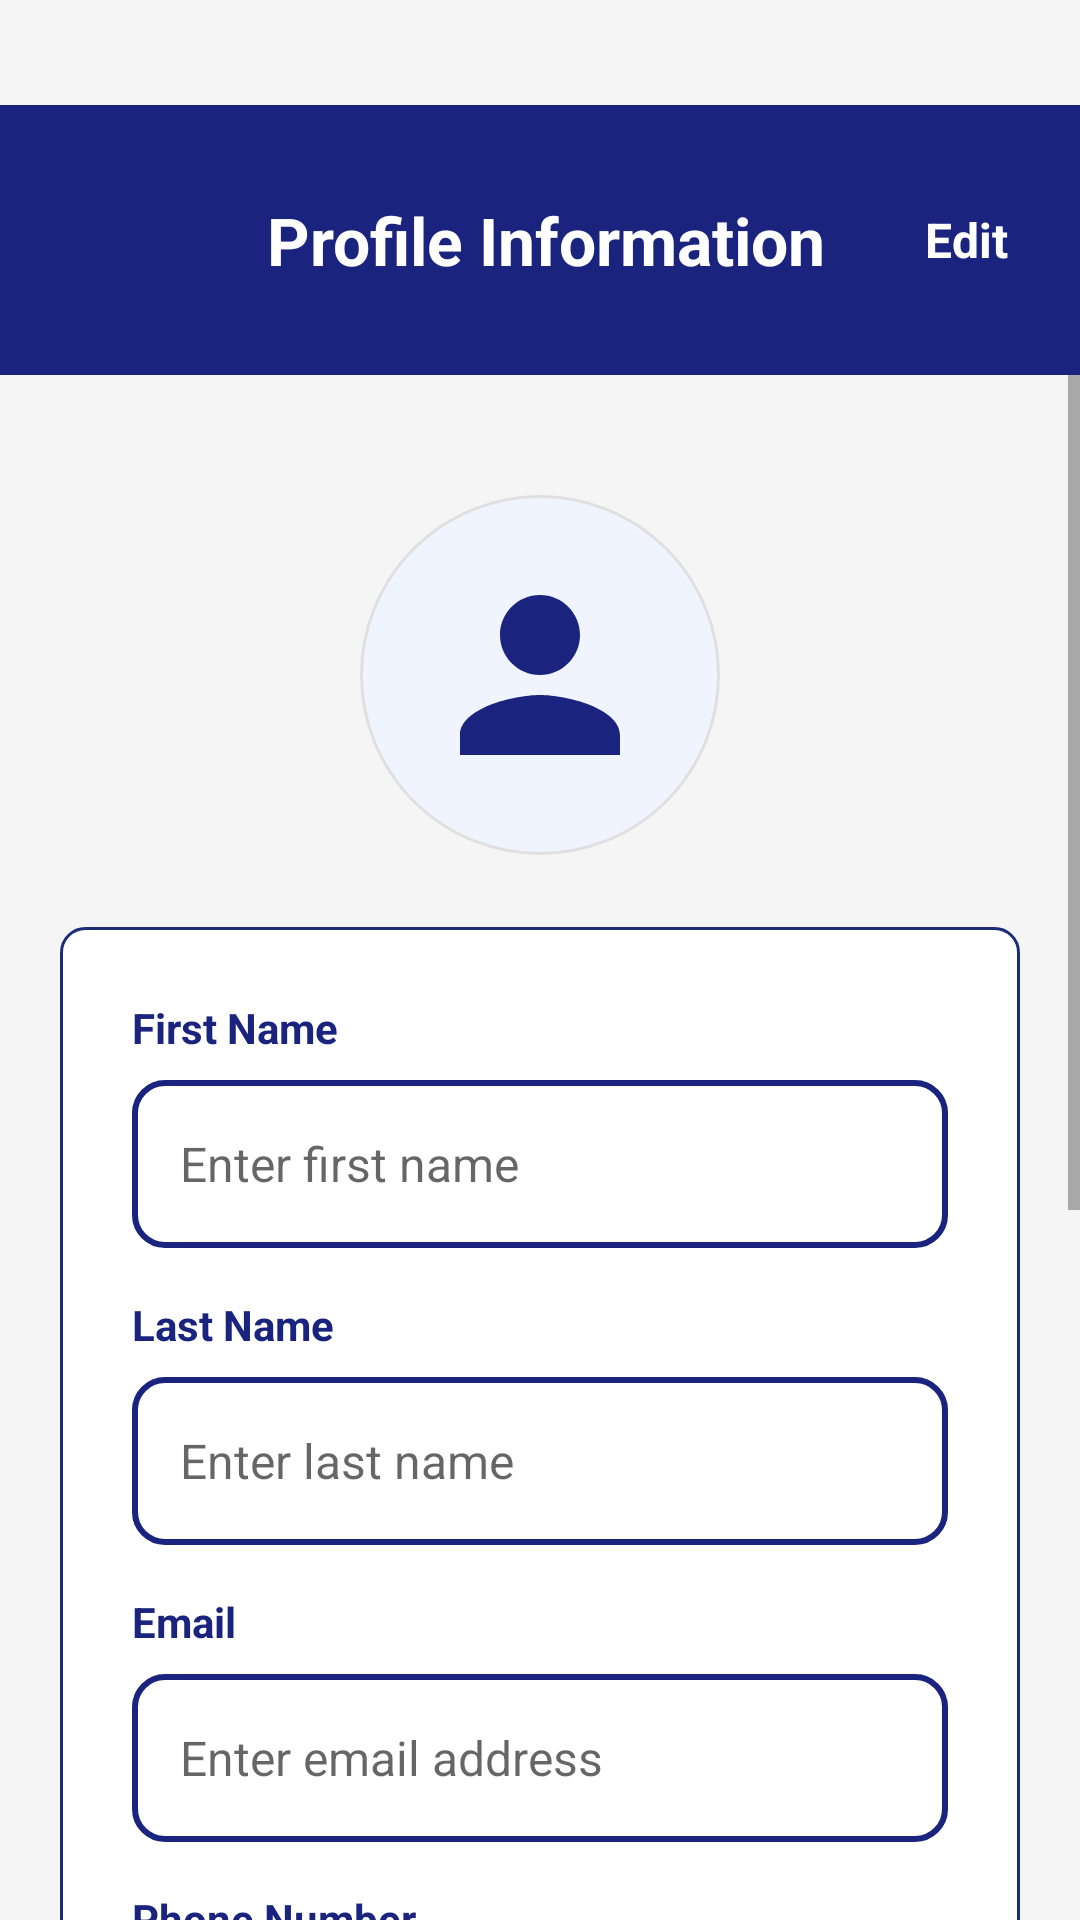

Point at icon controls on the screen. Image size 1080px x 1920px, points as (x=x, y=y).
Profile Image: (x=540, y=675)
